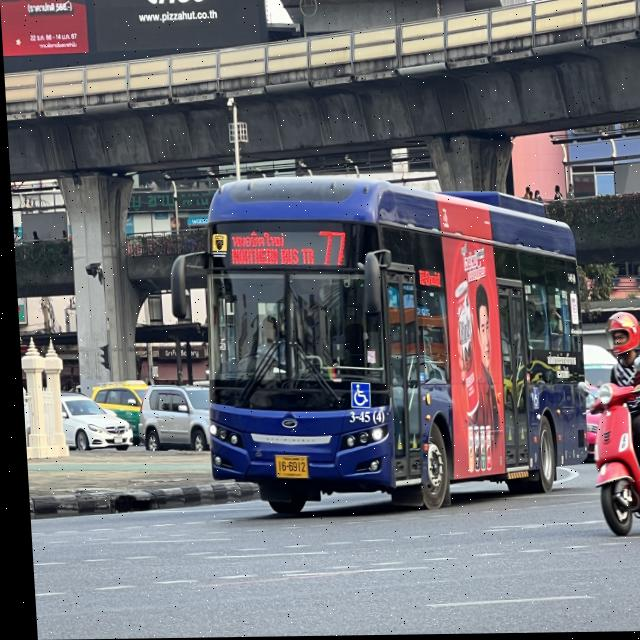Bus Line Number: (312, 227, 350, 269)
Bus Side Number: (343, 407, 381, 429)
Destination Sign: (225, 227, 315, 269)
TSB-Bus: (202, 176, 584, 519)
